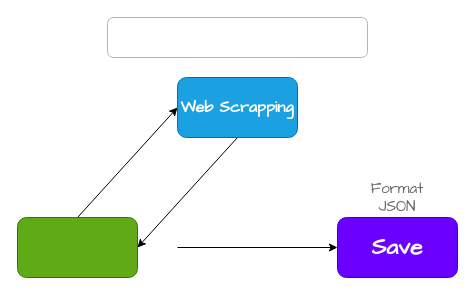
This 475x295 diagram has some shape labels left out. The shapes that lost their labels are listed below. From the top down, each one's centre as x and y in pixels, then its label:
[237,37]: https://www.airliners.net/aircraft-data
[77,247]: App
